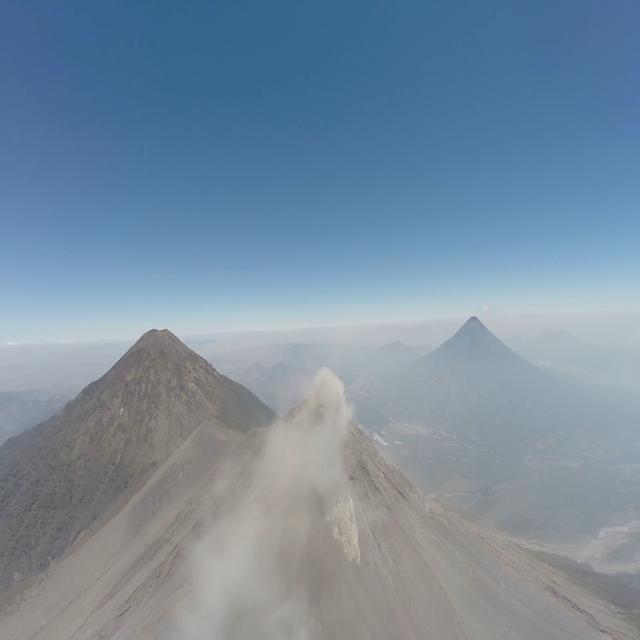Plume: (188, 409, 336, 640), (298, 366, 352, 450)
Summit: (236, 402, 424, 640)
